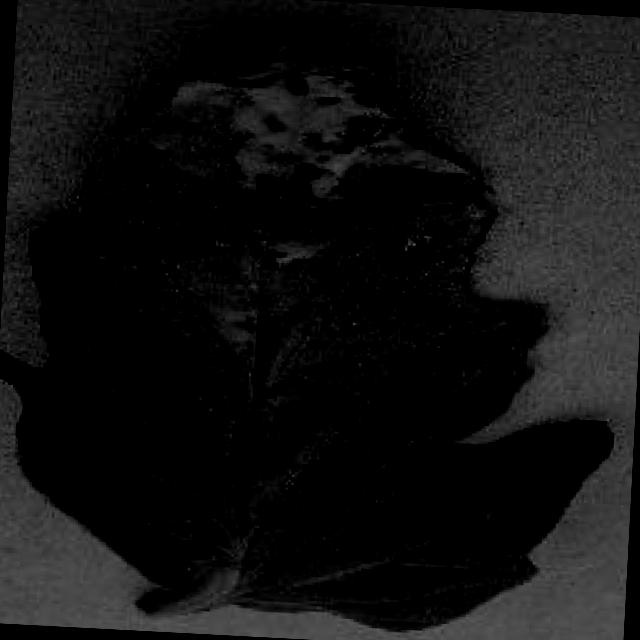bacterial spot: (0, 32, 613, 627)
